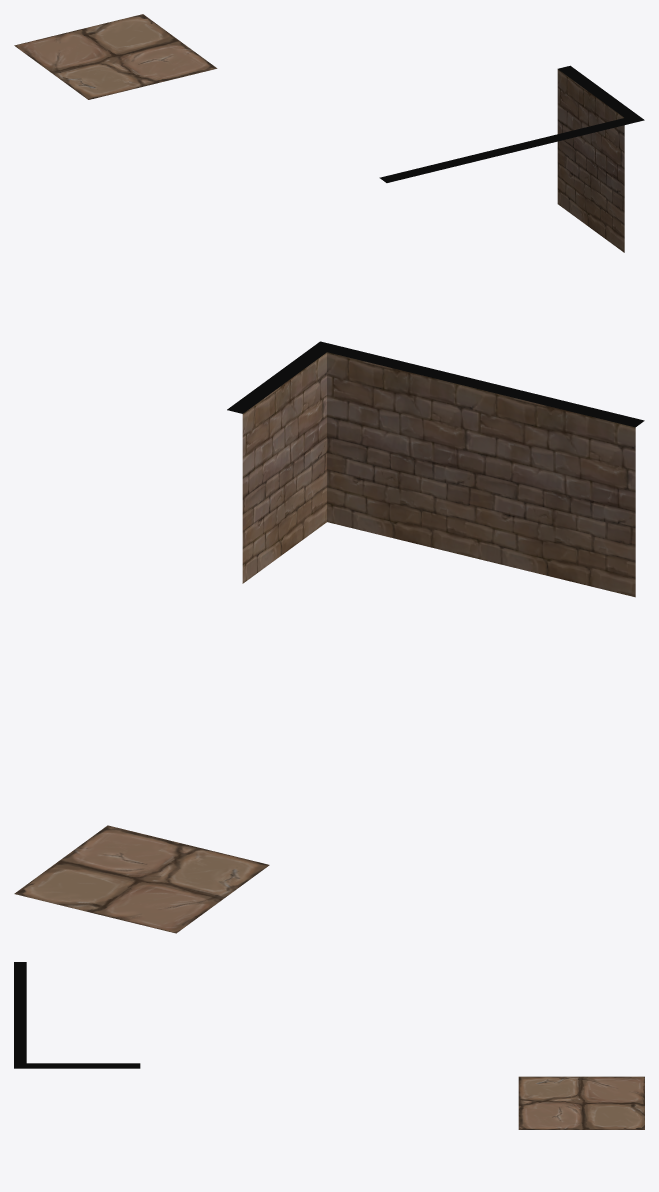
Rendered from Tiles_Dungeon_A.glb.
3 renders of one model, top to bottom at view 1: azimuth 30°, elevation 25°; view 2: azimuth 150°, elevation 25°; view 3: azimuth 270°, elevation 25°, orthographic. The views are drawn at different scales.
Visible parts, largest first — view 1: Wall_Corner_Stone_Blue, Floor_Stone_Blue, Wall_Stone_Blue; view 2: Wall_Corner_Stone_Blue, Wall_Stone_Blue, Floor_Stone_Blue; view 3: Floor_Stone_Blue, Wall_Corner_Stone_Blue, Wall_Stone_Blue.
Boxes of the visible parts, <box> form: Wall_Corner_Stone_Blue: <box>509,65,644,252</box>; Floor_Stone_Blue: <box>14,14,217,99</box>; Wall_Stone_Blue: <box>379,146,515,182</box>; Wall_Corner_Stone_Blue: <box>227,341,481,583</box>; Wall_Stone_Blue: <box>473,381,644,597</box>; Floor_Stone_Blue: <box>14,825,269,933</box>; Floor_Stone_Blue: <box>518,1076,644,1129</box>; Wall_Corner_Stone_Blue: <box>14,1015,140,1068</box>; Wall_Stone_Blue: <box>14,962,26,1015</box>.
Bounding box in the file's own units: 4 × 2 × 10.
Materials: 3 (3 with a texture image).
